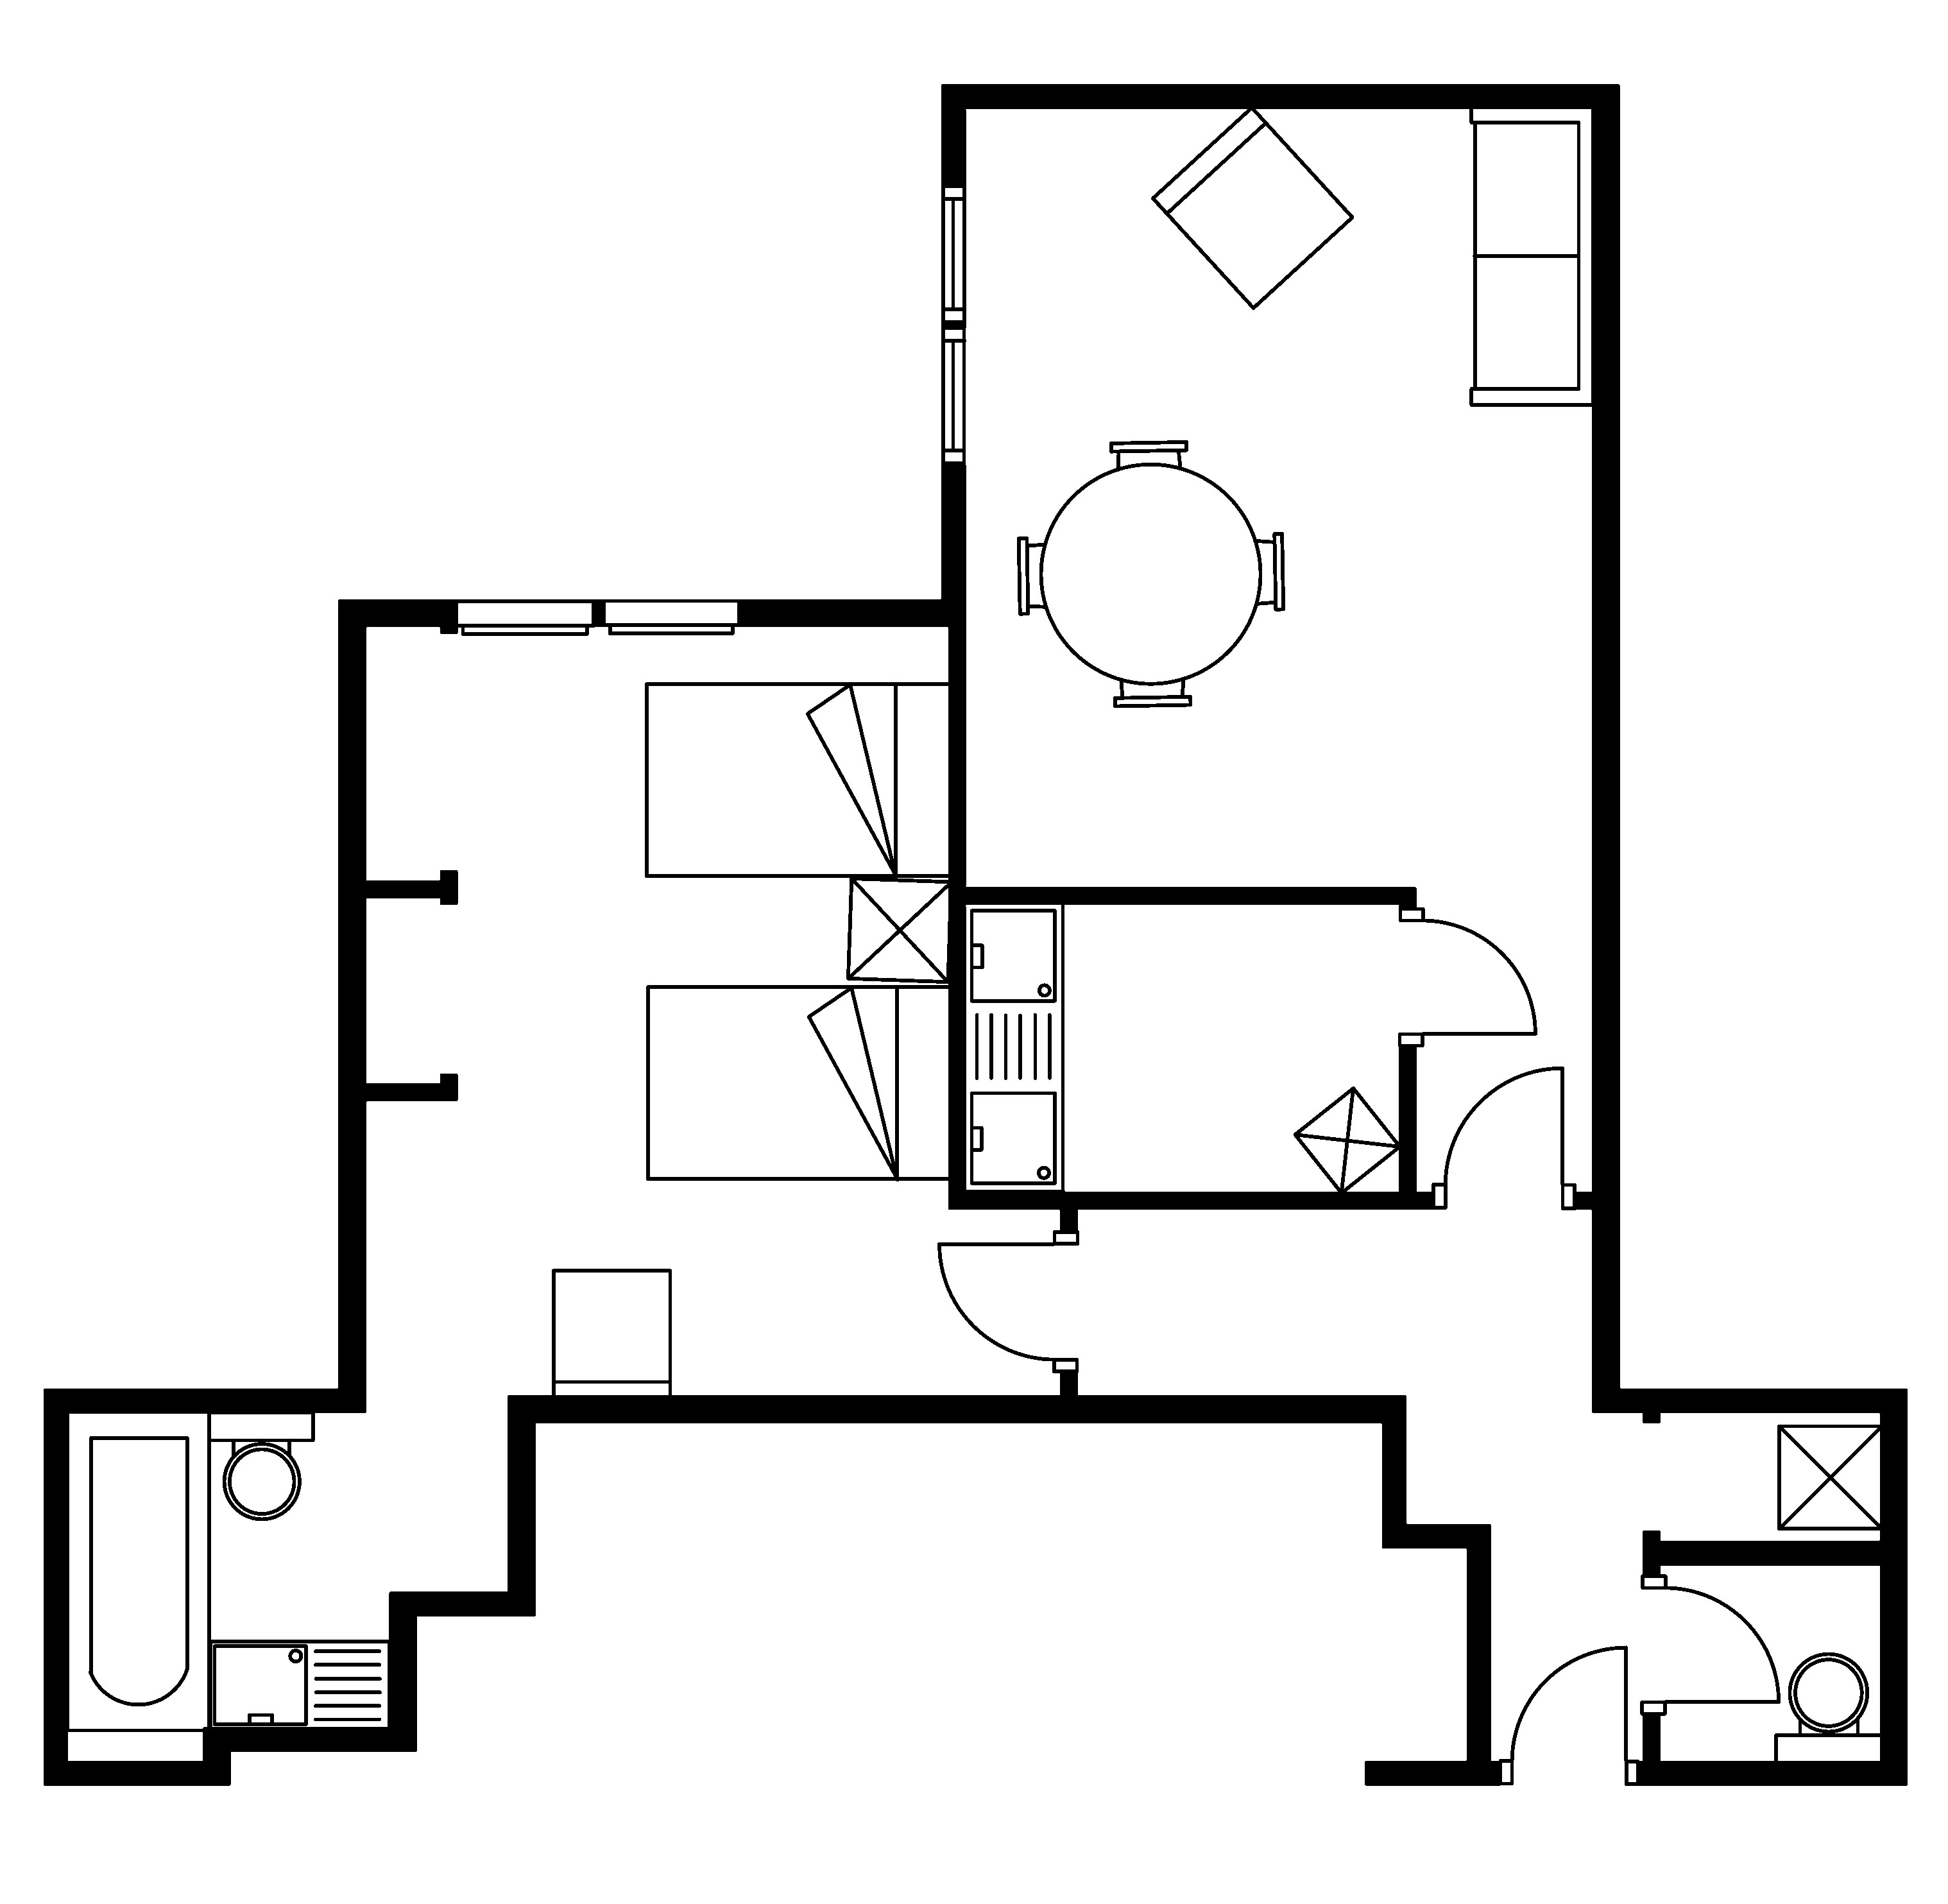bed: (644, 680, 952, 879), (645, 983, 954, 1182)
coffee_table: (1292, 1085, 1402, 1194), (1775, 1423, 1883, 1531), (846, 875, 952, 983)
large_sink: (1774, 1653, 1885, 1766), (206, 1411, 316, 1520)
large_sofa: (1468, 105, 1596, 406)
round_table: (1015, 439, 1285, 708)
sink: (208, 1639, 391, 1731)
small_sofa: (1149, 105, 1353, 310), (551, 1268, 671, 1402)
tub: (65, 1409, 211, 1733)
twin_sink: (961, 900, 1066, 1194)
